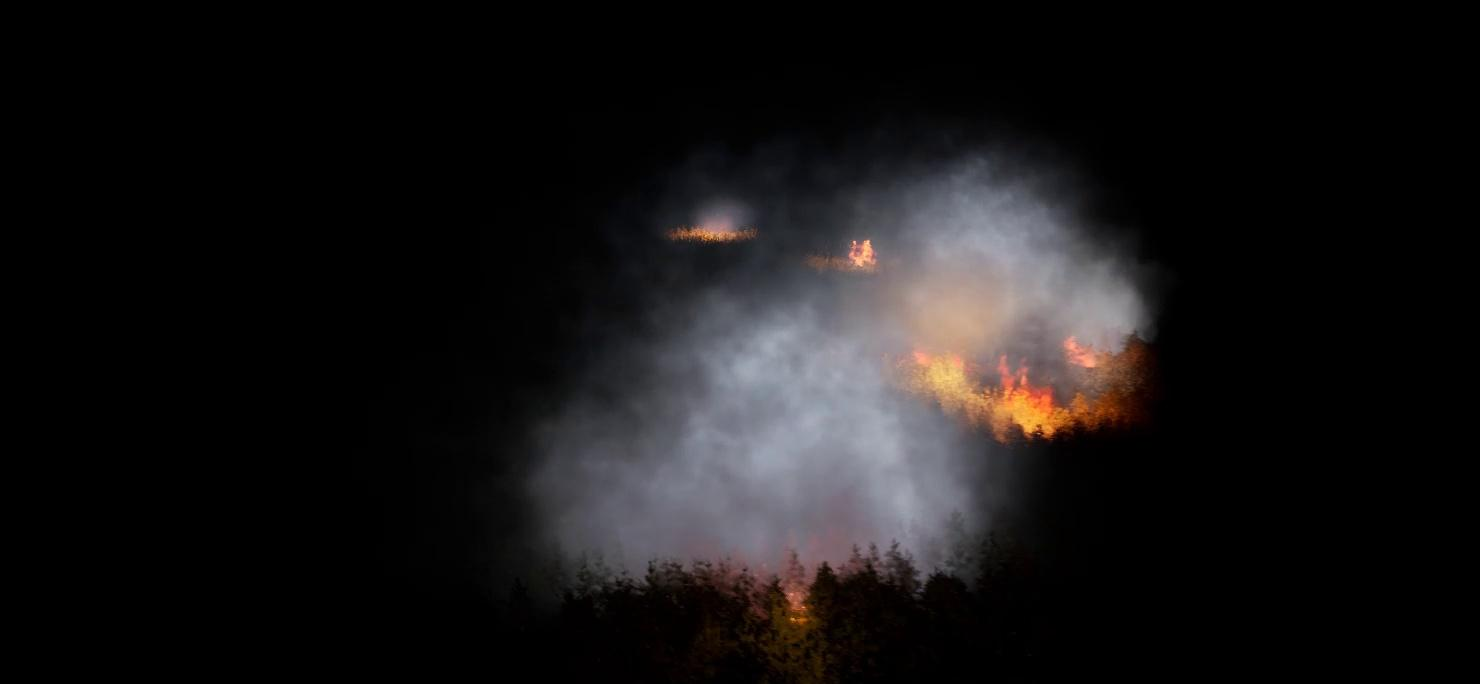fire: (907, 349, 1107, 433), (1055, 334, 1123, 371), (844, 234, 886, 270)
smoke: (510, 107, 1163, 592), (679, 184, 757, 238)
